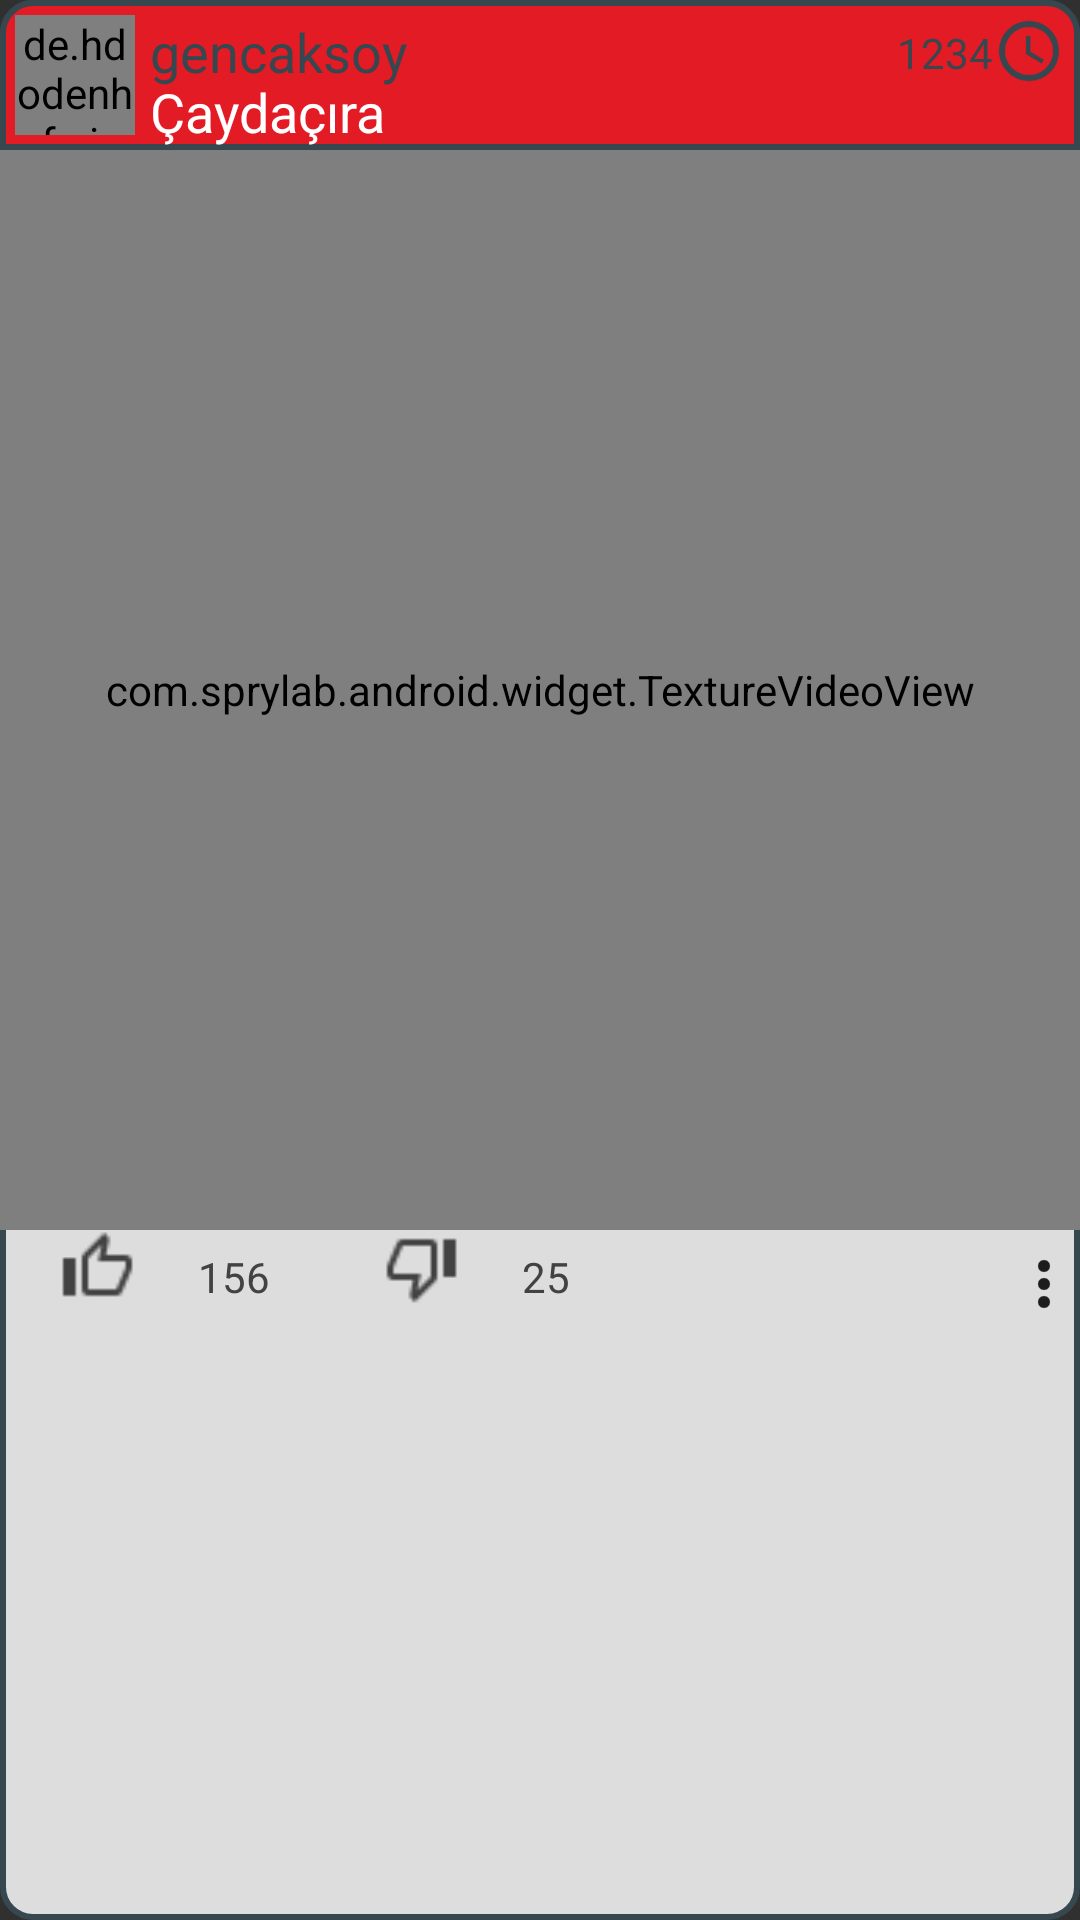

Icons on this 1080 × 1920 Android screen, each with its box as (x1, y1, x2, y2):
clock: (999, 21, 1059, 81)
dislike: (386, 1238, 457, 1303)
dots vertical: (1038, 1248, 1080, 1320)
like: (62, 1232, 133, 1297)
